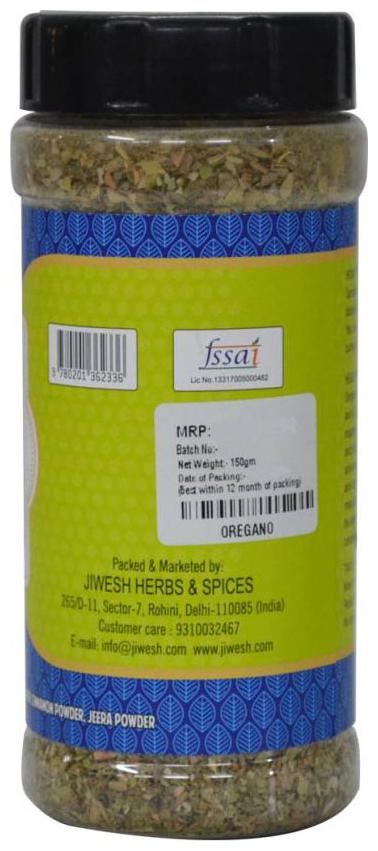fssai: (197, 336, 264, 371)
